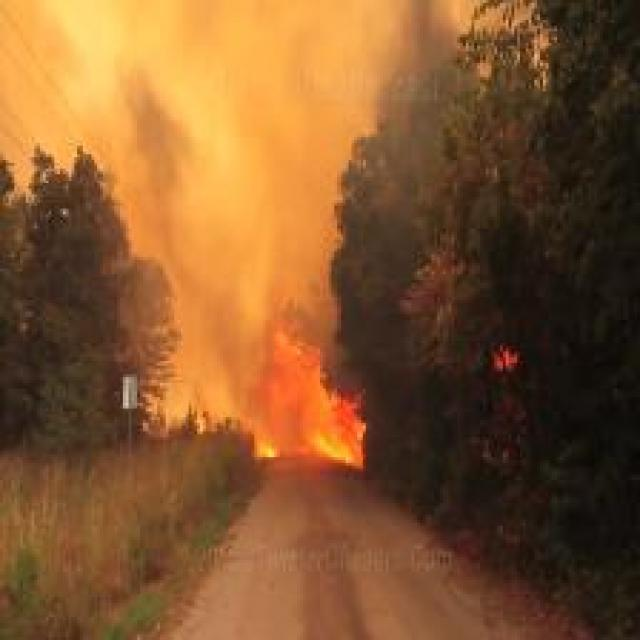Fire: (250, 300, 370, 474)
